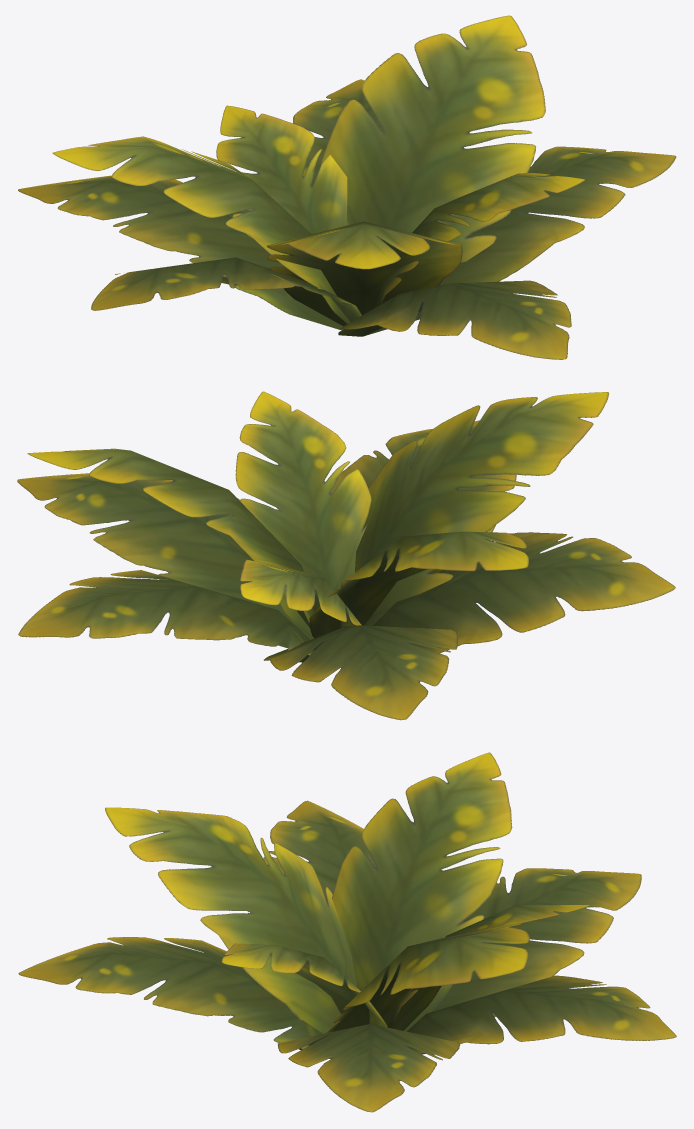
Rendered from Jungle_plant_02.fbx.
3 renders of one model, top to bottom at view 1: azimuth 30°, elevation 25°; view 2: azimuth 150°, elevation 25°; view 3: azimuth 270°, elevation 25°, orthographic. The views are drawn at different scales.
Visible parts, largest first — view 1: Jungle_plant_02; view 2: Jungle_plant_02; view 3: Jungle_plant_02.
Boxes of the visible parts, bbox=[...] form: Jungle_plant_02: bbox=[18, 15, 676, 359]; Jungle_plant_02: bbox=[17, 391, 675, 720]; Jungle_plant_02: bbox=[18, 752, 676, 1112].
Size of the model in its own units: 123 by 39.46 by 117.
